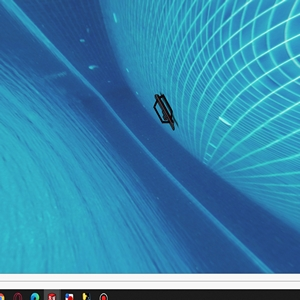submarine: (154, 92, 176, 133)
